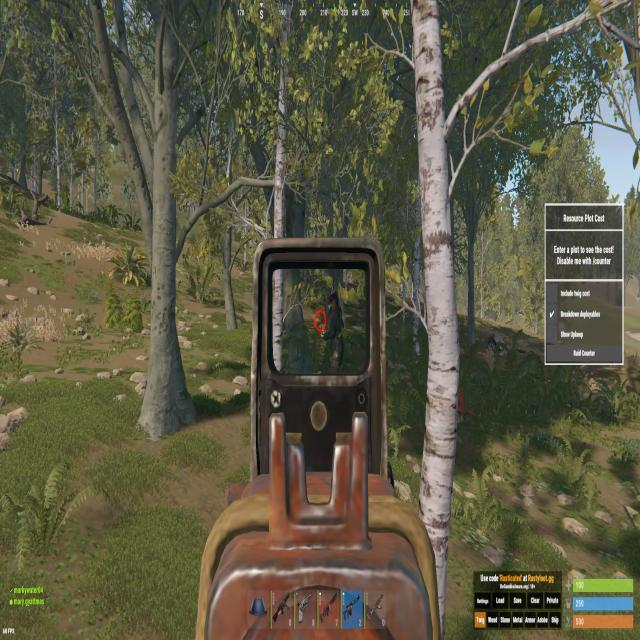Player: (324, 288, 344, 374)
